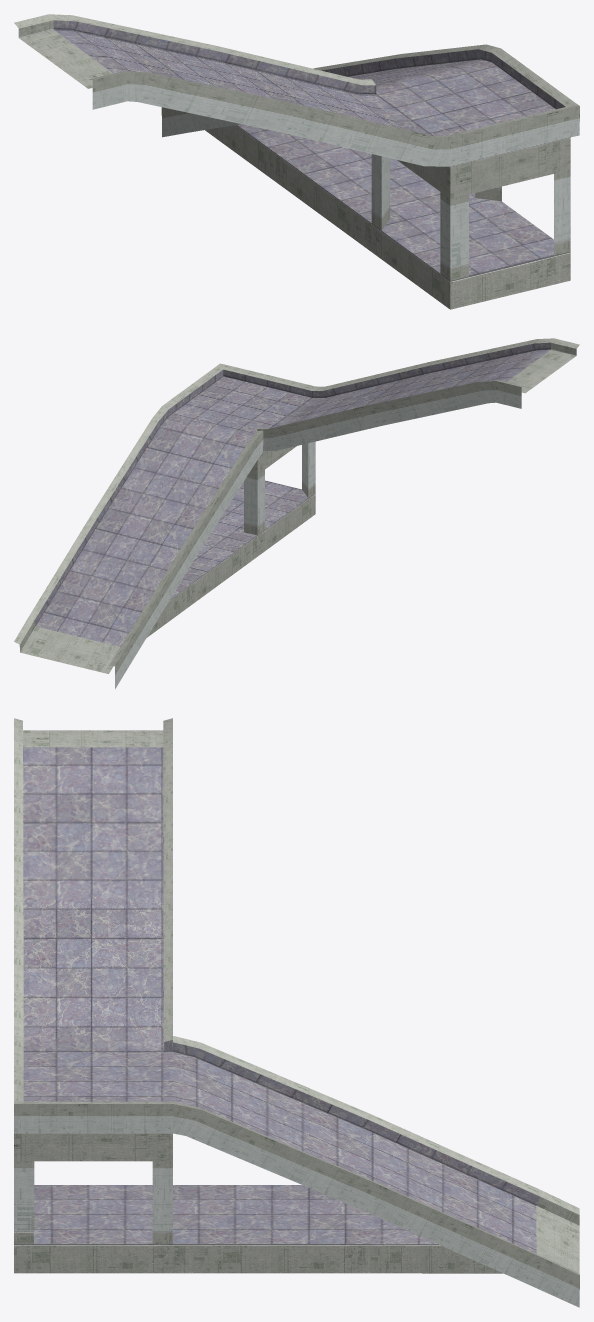
The model's file is bes2_bldg_skyway_ramp2.glb.
3 views of the same model, one above another, from view 1: azimuth 30°, elevation 25°; view 2: azimuth 150°, elevation 25°; view 3: azimuth 270°, elevation 25° (orthographic). The views are drawn at different scales.
Visible parts, largest first — view 1: mesh_part2, mesh_part1; view 2: mesh_part1, mesh_part2; view 3: mesh_part1, mesh_part2.
Part boxes in pixels (x1,y1,x2,y2): mesh_part2: (14, 14, 579, 309); mesh_part1: (53, 20, 565, 276); mesh_part1: (34, 342, 550, 646); mesh_part2: (14, 338, 579, 689); mesh_part1: (23, 747, 540, 1253); mesh_part2: (14, 718, 579, 1307).
Size of the model in its own units: 28.56 by 19.45 by 28.47.
Materials: 2 (2 with a texture image).
